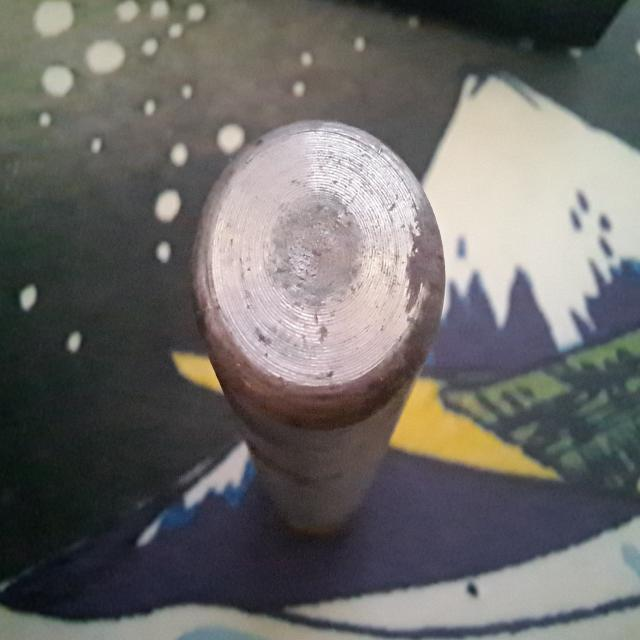planson: (185, 119, 446, 541)
